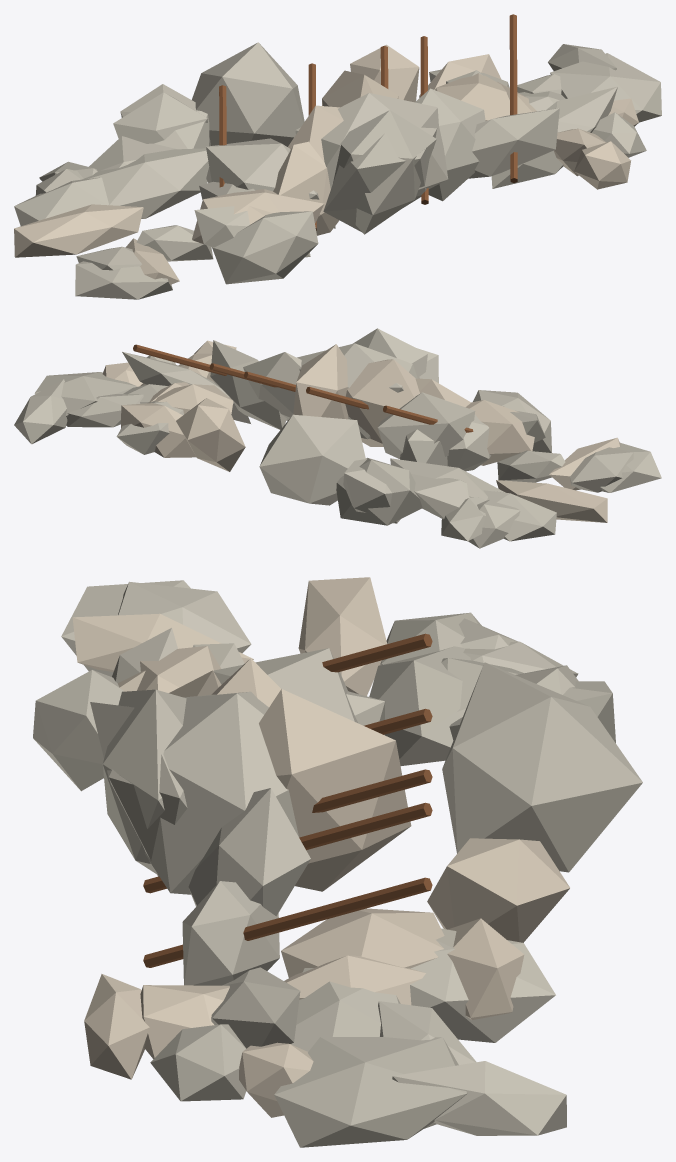
File: Rubble.fbx
The picture shows the model from 3 angles, top to bottom: view 1: azimuth 30°, elevation 25°; view 2: azimuth 150°, elevation 25°; view 3: azimuth 270°, elevation 25°; orthographic projection. The views are drawn at different scales.
Visible parts, largest first — view 1: Rubble; view 2: Rubble; view 3: Rubble.
Part boxes in pixels (box(x1,y1,x2,y2)): Rubble: box(14, 14, 661, 299); Rubble: box(14, 328, 661, 548); Rubble: box(33, 577, 642, 1147).
Size of the model in its own units: 3.23 by 0.6261 by 1.52.
